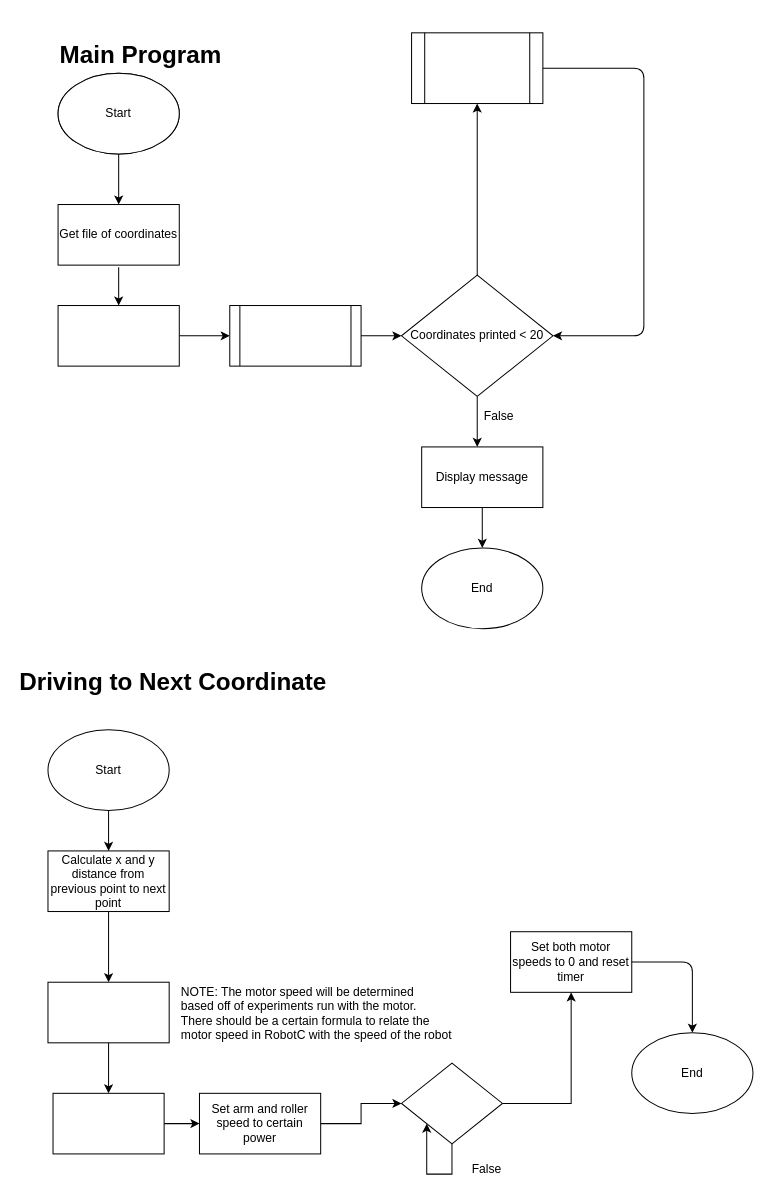
Some shapes in this 771 by 1200 pixel diagram are drawn without their labels. The box of each missing label's shape, as (x1, y1, x2, y2) in pixels:
Calculate motor speed needed to travel in the x and y direction: (47, 981, 169, 1043)
Draw Cartesian Plane: (229, 305, 361, 366)
Drive to next coordinate: (411, 32, 543, 104)
Has 3 seconds passed?: (400, 1062, 502, 1144)
Start timer: (52, 1092, 164, 1154)
Wait for button press and release: (57, 305, 179, 366)
